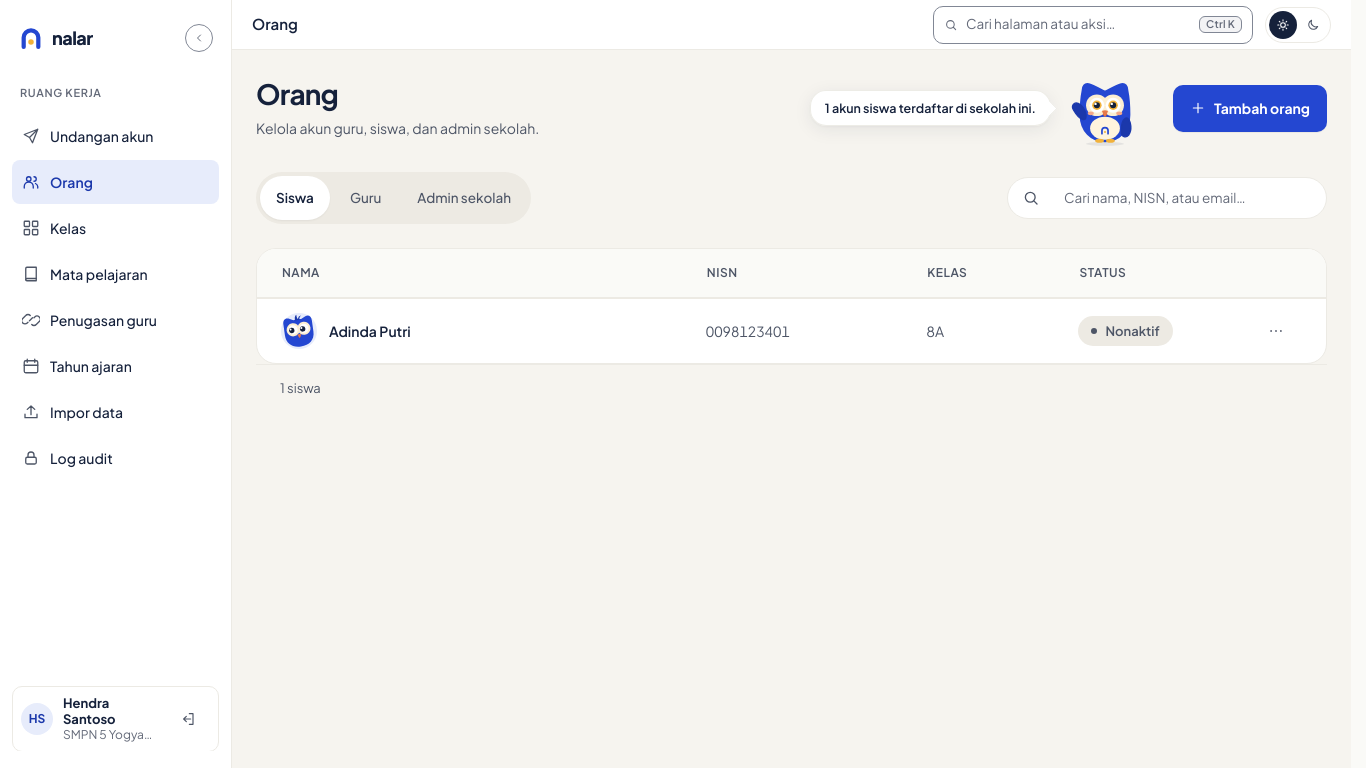
Test case: school administration › turns an inactive person back on and explains a refusal
What coordinates should you click on to do the following:
click the button named "Kelola Adinda Putri"
I would click on:
 (1276, 331)
Its box is x1=1258 y1=313 x2=1294 y2=349.
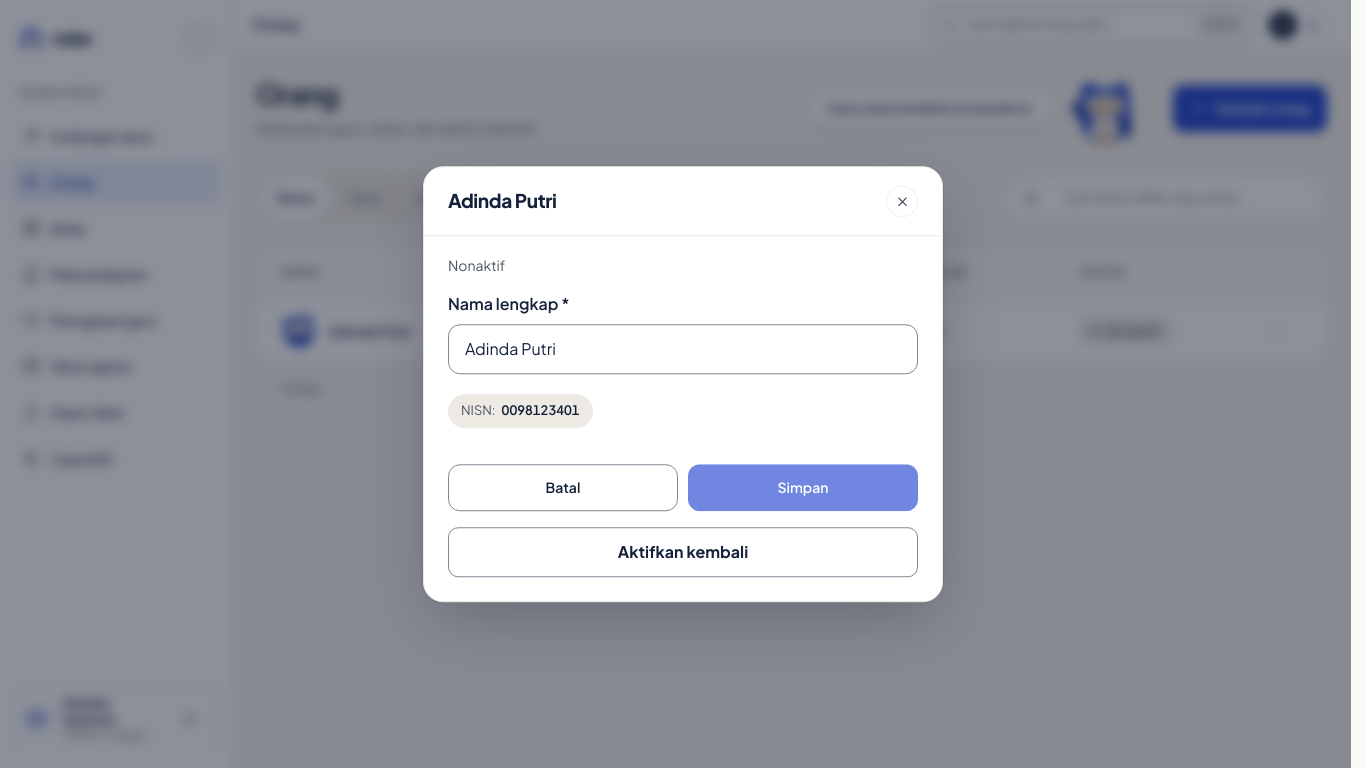
What coordinates should you click on to do the following:
click the button "Aktifkan kembali"
I would click on:
 (683, 552)
Its box is x1=448 y1=527 x2=918 y2=577.
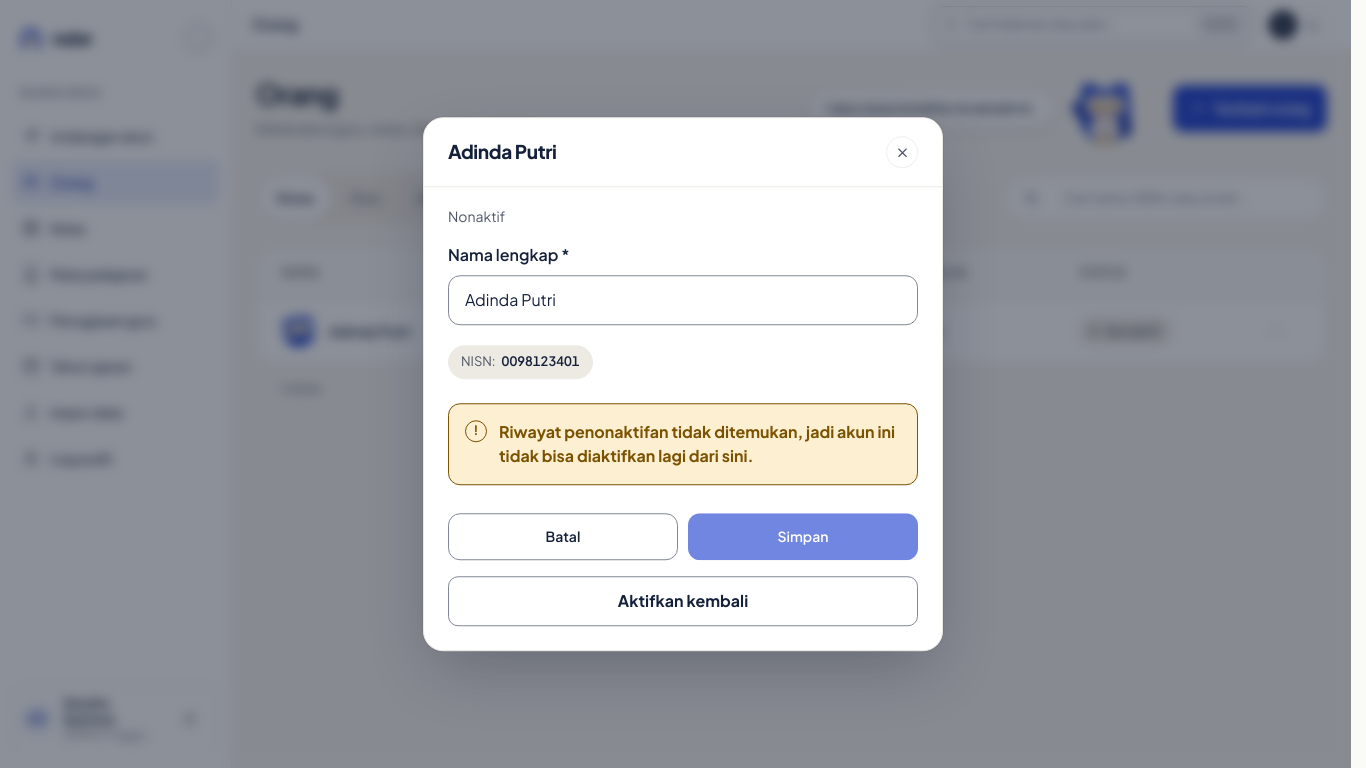
Result: the text "Riwayat penonaktifan tidak ditemukan" is shown at x1=499 y1=421 x2=895 y2=466
What coordinates should you click on to do the following:
click the button "Aktifkan kembali"
I would click on:
 (683, 601)
Its box is x1=448 y1=576 x2=918 y2=626.
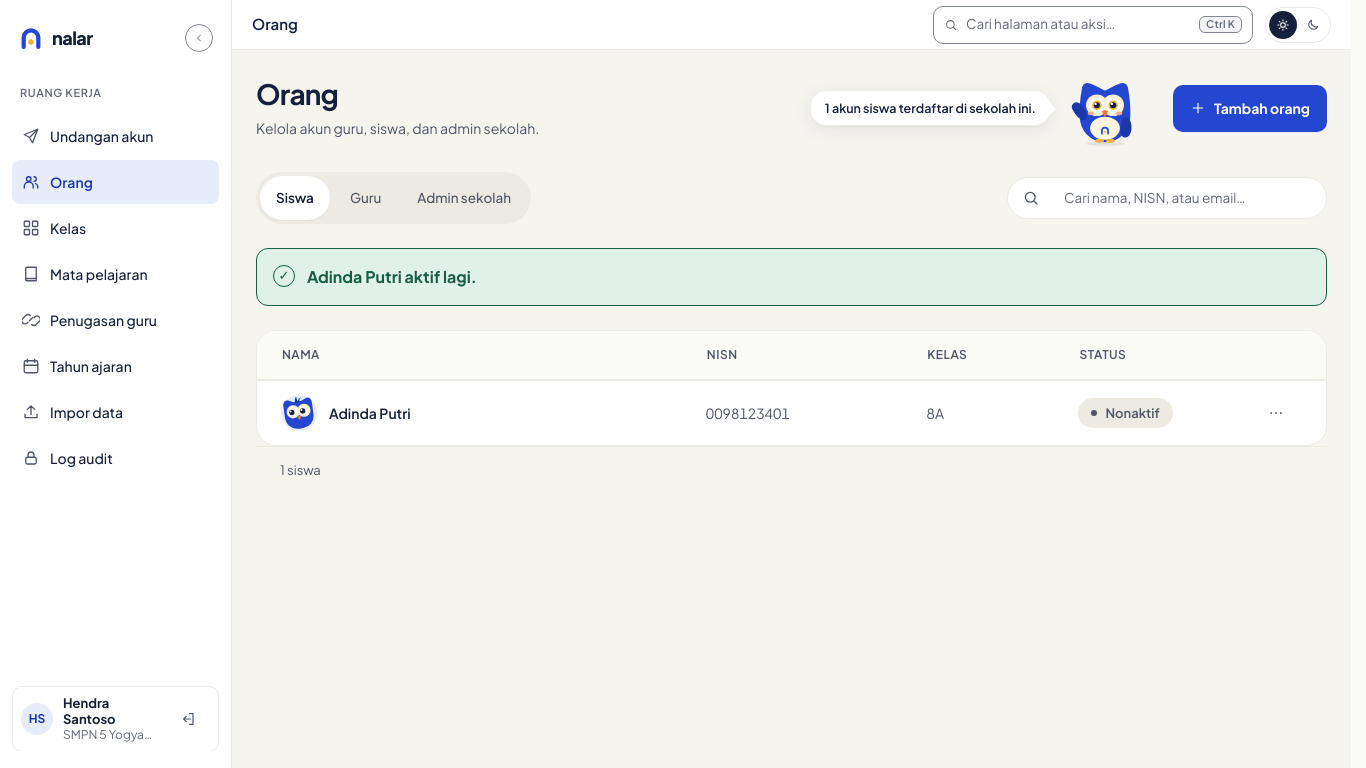
Result: the text "Adinda Putri aktif lagi." is shown at x1=307 y1=265 x2=477 y2=289
